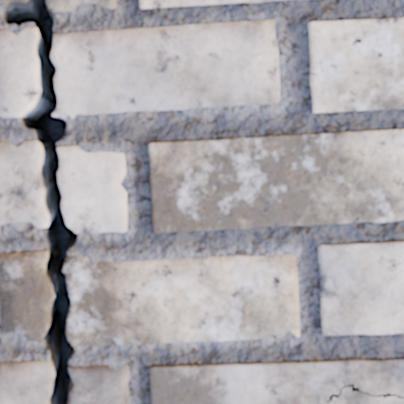brick: (148, 129, 403, 232), (149, 359, 403, 403), (308, 18, 403, 111), (318, 242, 403, 334), (330, 388, 403, 403), (140, 0, 271, 8)
broken_brick: (52, 19, 281, 121), (64, 253, 300, 348), (58, 145, 128, 234), (0, 250, 52, 340), (0, 139, 47, 229), (0, 26, 38, 118), (70, 364, 129, 403), (0, 360, 52, 403), (47, 0, 116, 13), (0, 0, 25, 6)
crack: (1, 0, 77, 403), (326, 381, 403, 403), (309, 72, 318, 76)
